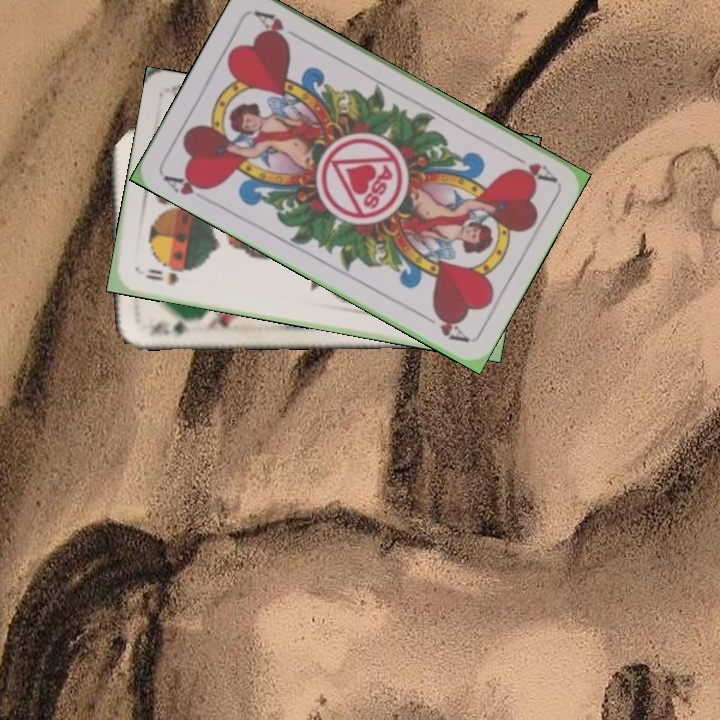GK: (149, 314, 195, 336)
HA: (159, 169, 215, 206), (504, 148, 559, 185)
SO: (141, 265, 182, 288)
